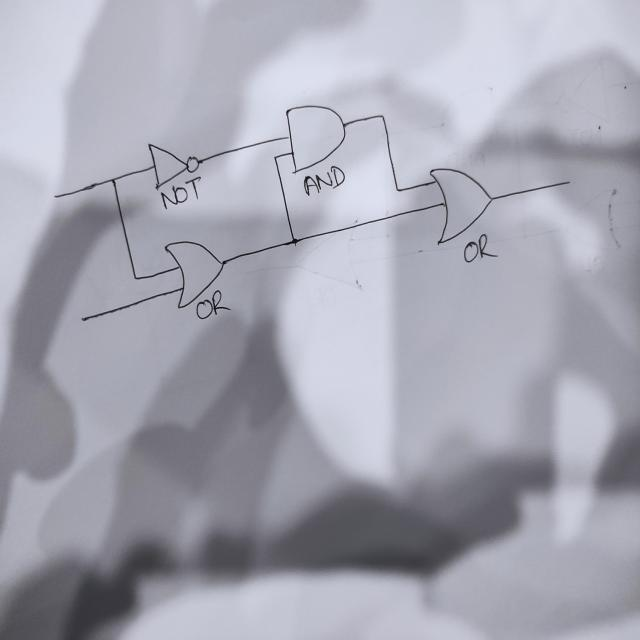junction: (375, 108, 389, 125), (106, 172, 120, 188), (129, 271, 140, 284), (392, 184, 402, 197), (289, 234, 299, 246), (271, 151, 279, 162)
terminal: (556, 174, 576, 190), (50, 190, 61, 202), (78, 313, 88, 325)
text: (159, 174, 202, 212), (302, 166, 344, 196), (194, 288, 232, 319), (462, 234, 498, 262)
